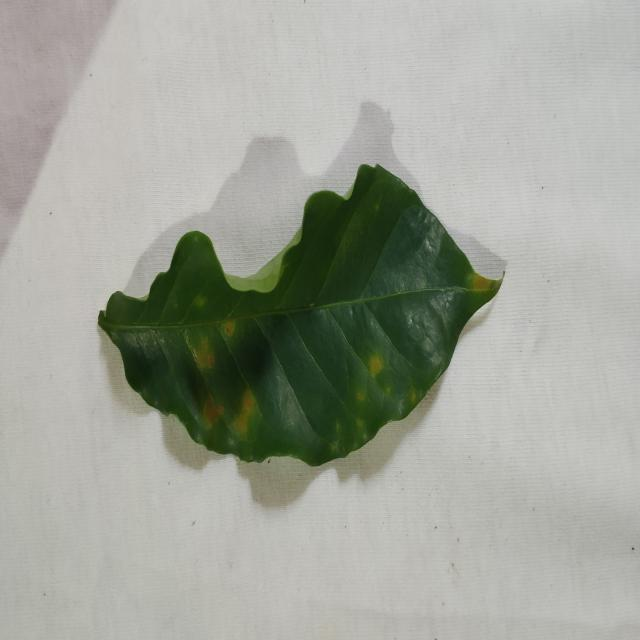Enfermedad-Roya: (96, 165, 504, 469)
